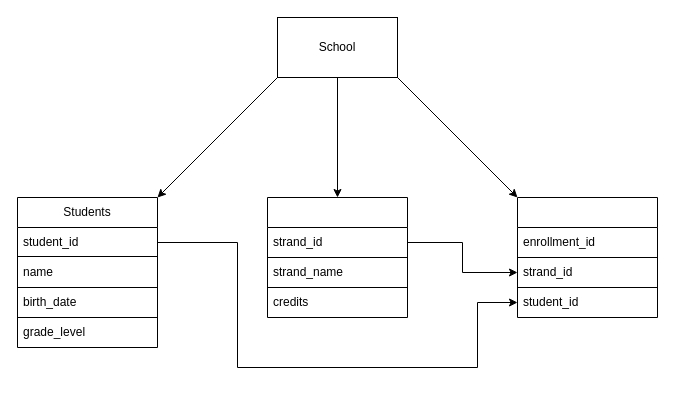
Some shapes in this 676 by 393 pixel diagram are drawn without their labels. Each missing label, with the box of its shape:
Courses: (266, 196, 408, 318)
Enrollments: (516, 196, 658, 318)
